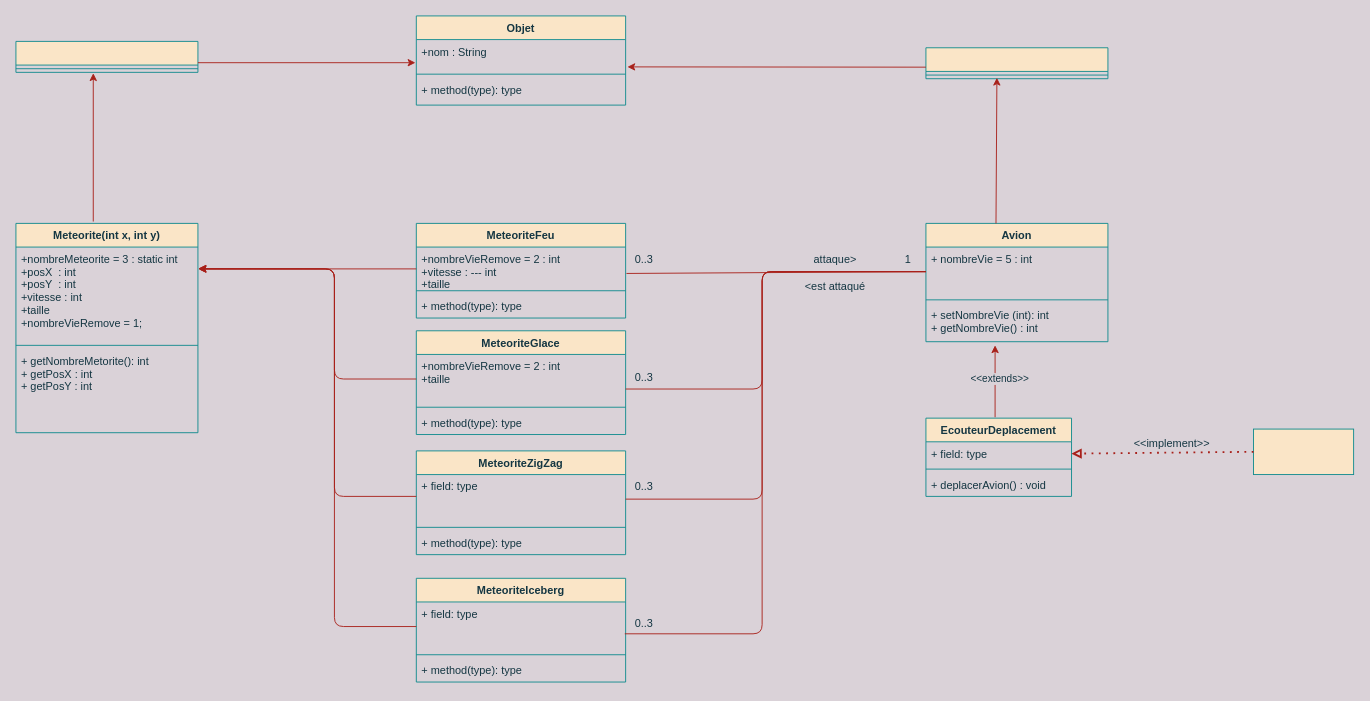
This 1370x701 diagram has some shape labels left out. Here are the shapes that lost their labels. From the top down, the centre of each, then its label:
At (x=106, y=56): "ObjetEnnemi".
At (x=1016, y=63): "ObjetAmi".
At (x=1303, y=451): "«interface» KeyListener".
